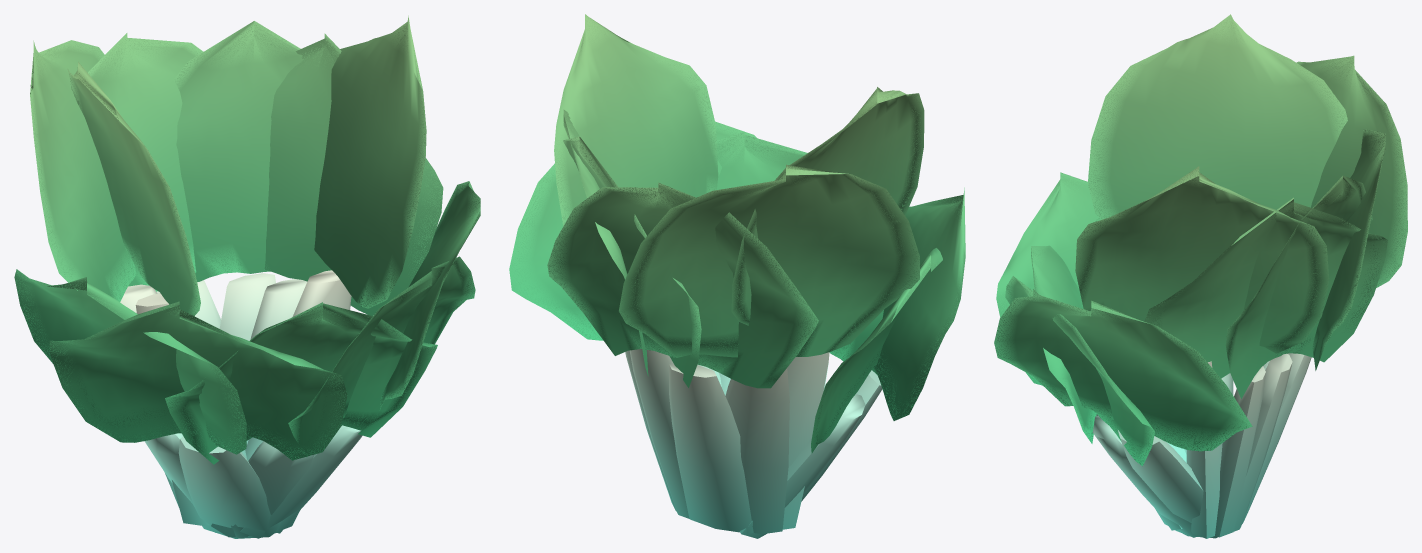
File: ENV_Dimsum_BokChoy.fbx
The picture shows the model from 3 angles, left to right: view 1: azimuth 30°, elevation 25°; view 2: azimuth 150°, elevation 25°; view 3: azimuth 270°, elevation 25°; orthographic projection. The views are drawn at different scales.
Parts seen in each view (by area): view 1: ENV_Dimsum_BokChoy; view 2: ENV_Dimsum_BokChoy; view 3: ENV_Dimsum_BokChoy.
Boxes of the visible parts, x1,y1,x2,y2 form: ENV_Dimsum_BokChoy: (14,15,480,538); ENV_Dimsum_BokChoy: (509,14,965,538); ENV_Dimsum_BokChoy: (994,14,1407,538).
Size of the model in its own units: 1.04 by 1.17 by 0.9968.
